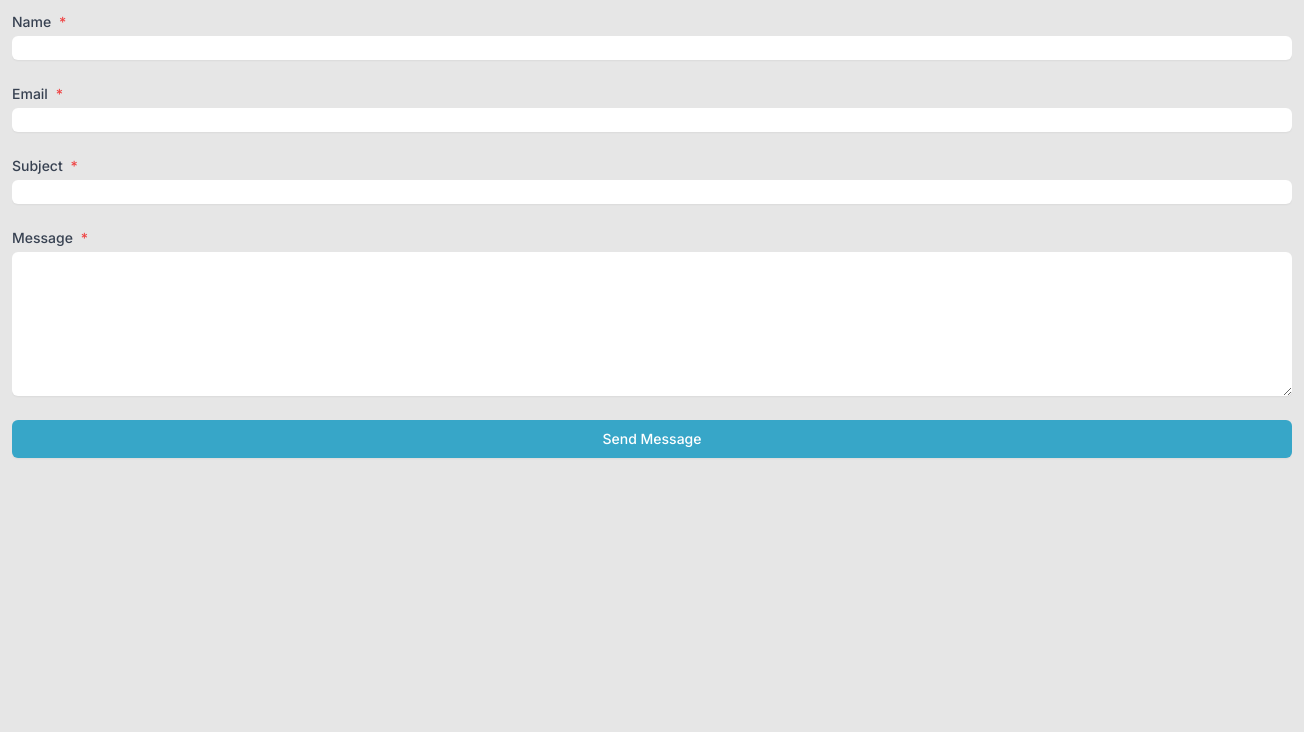
Contact Form Integration › should handle successful form submission
Type "Test User" into the field labelled "Name *" at [652, 48], box x1=12 y1=36 x2=1292 y2=60
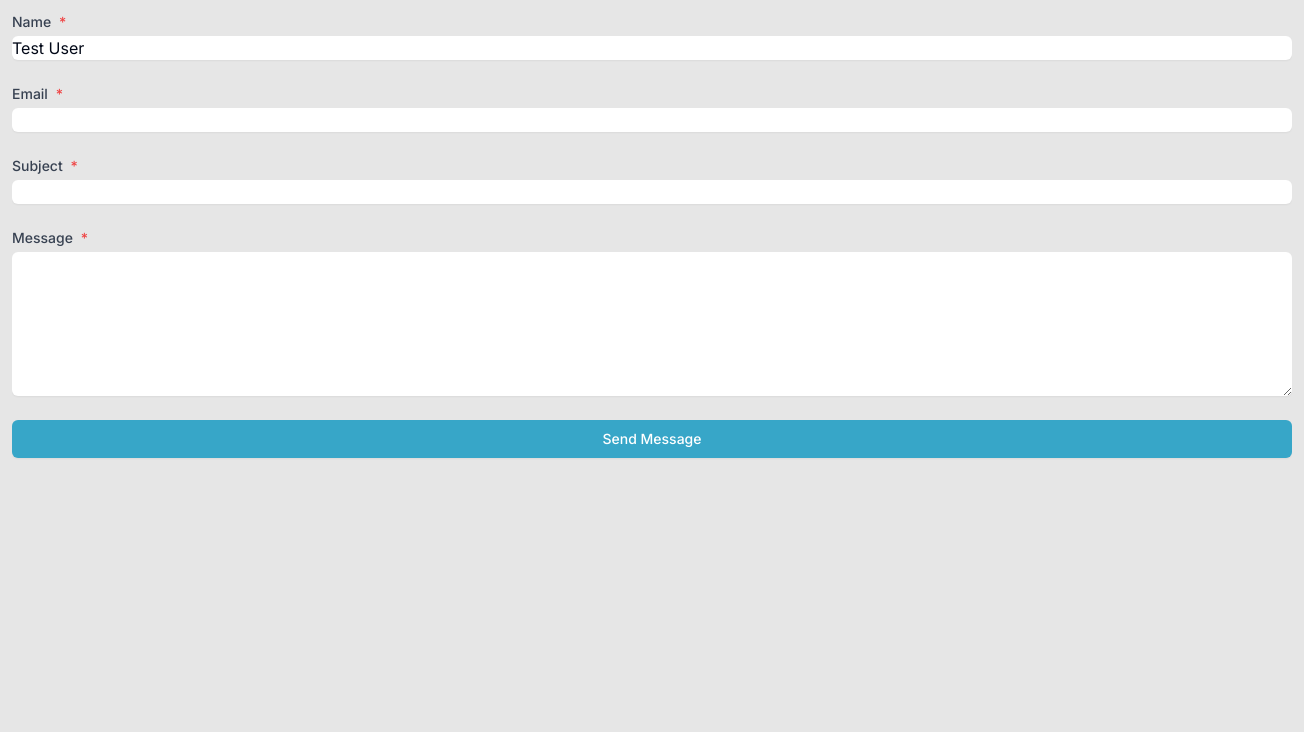
Type "test@example.com" into the field labelled "Email *" at [652, 120], box x1=12 y1=108 x2=1292 y2=132
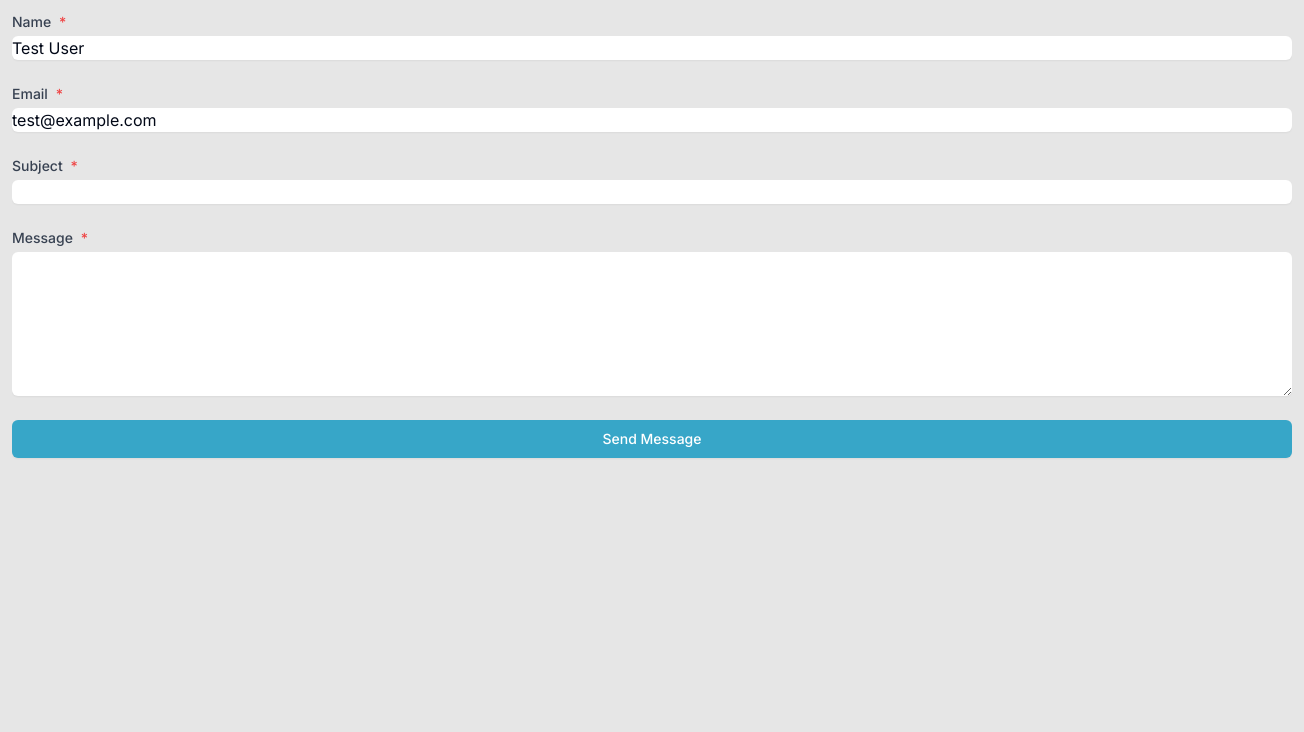
Type "Test Subject" into the field labelled "Subject *" at [652, 192], box x1=12 y1=180 x2=1292 y2=204
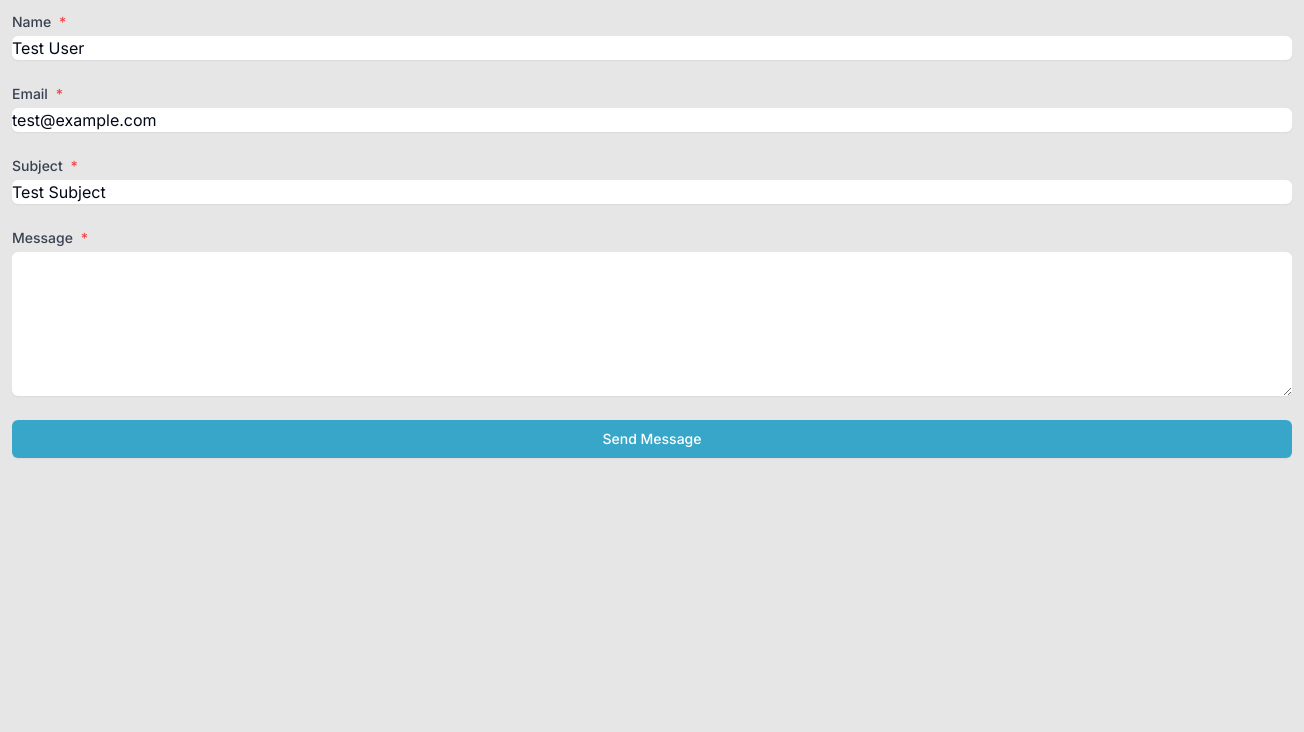
Type "Test Message" into the text box labelled "Message *" at [652, 324], box x1=12 y1=252 x2=1292 y2=396
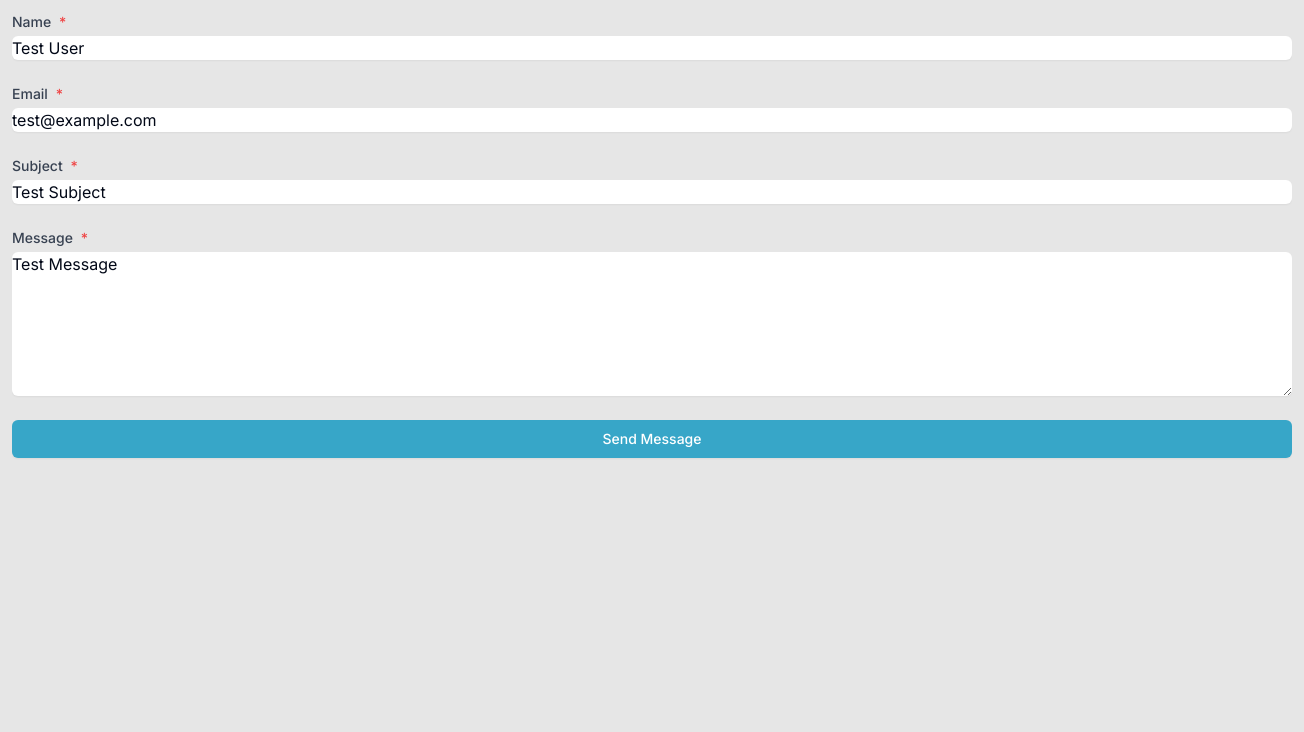
Click the button "Send Message" at [652, 439], box x1=12 y1=420 x2=1292 y2=458
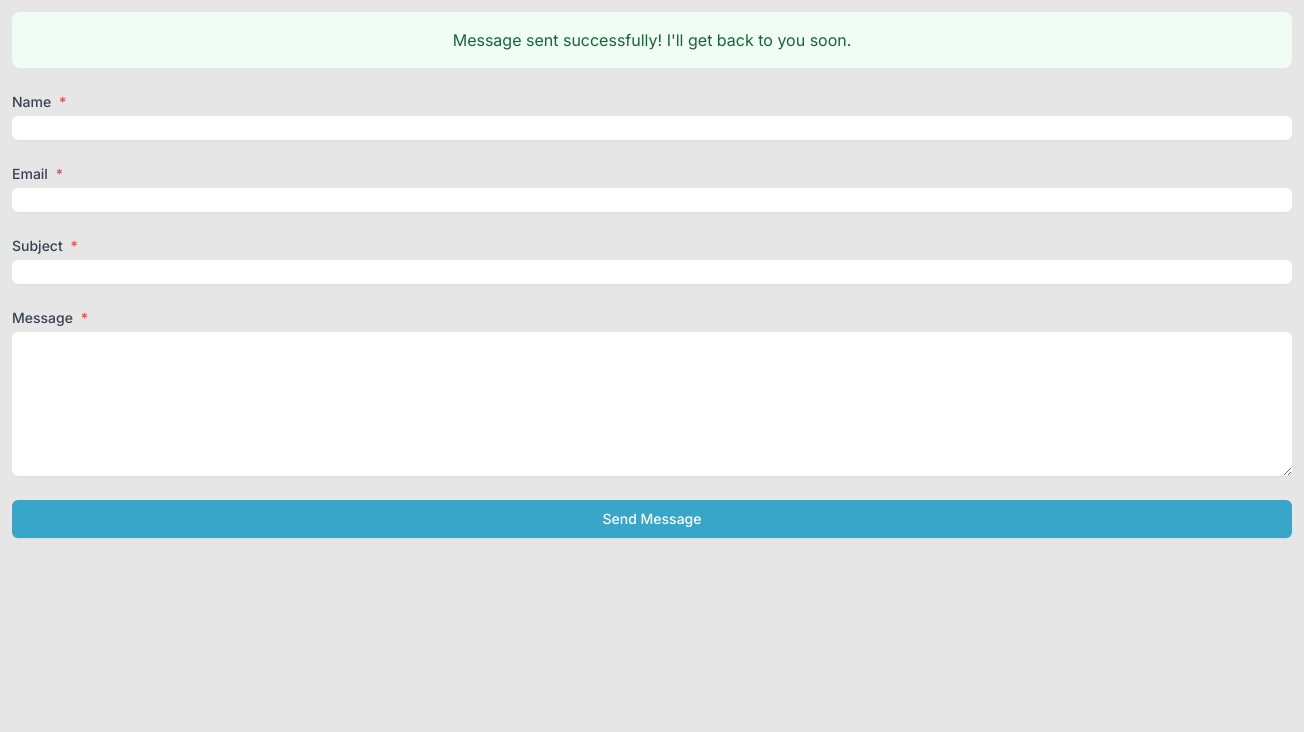
Result: the text "Message sent successfully! I'll get back to you soon." is shown at x1=453 y1=30 x2=851 y2=50
